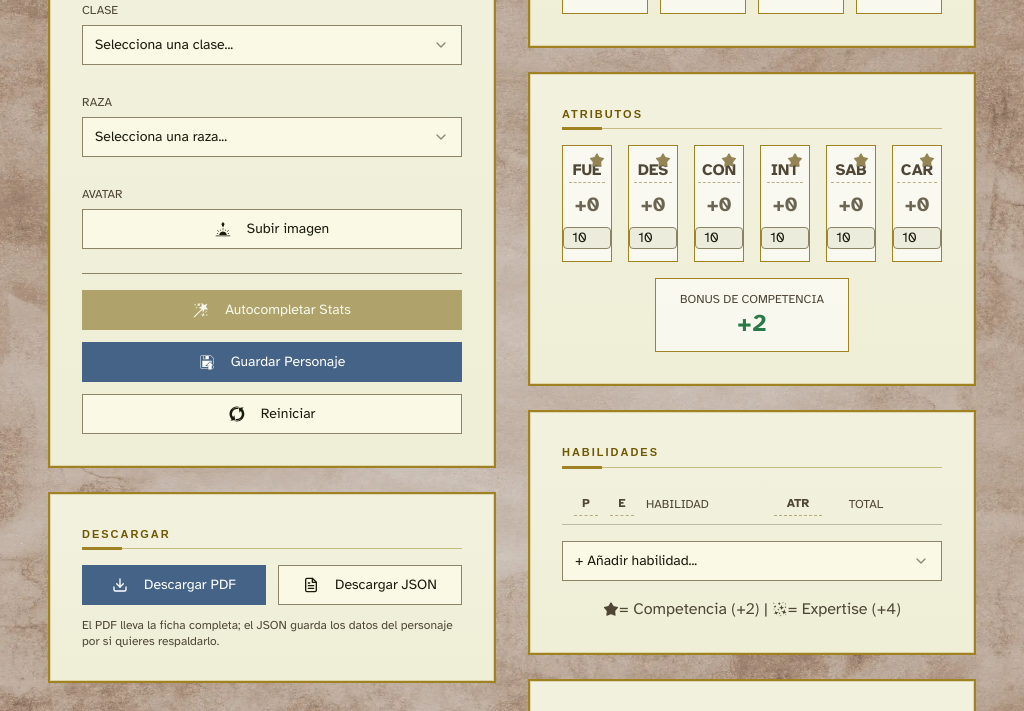
Test: character creator guard › blocks the save and explains what is wrong
(page scrolled)
Click the button "Guardar Personaje".
click(272, 362)  # box [82,342,462,382]
(page scrolled)
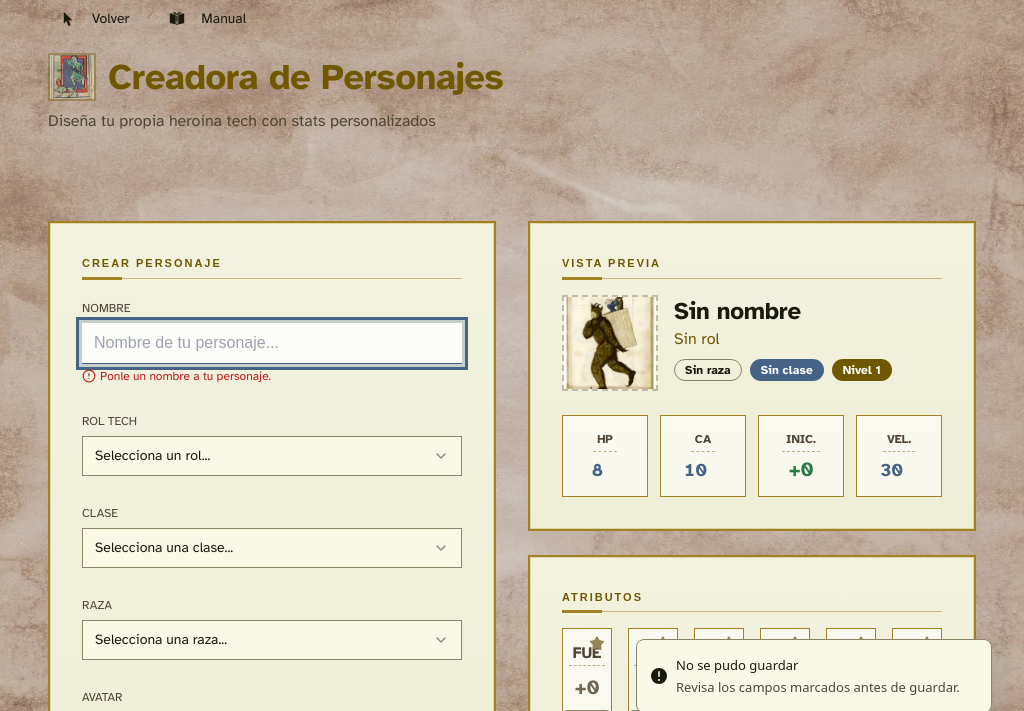
Expected: the text "Ponle un nombre a tu personaje." is shown, [100,368,271,384]
